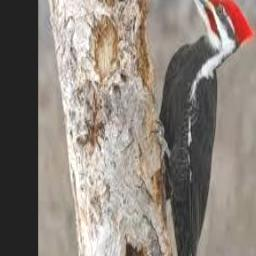Woodpecker: (158, 0, 255, 256)
